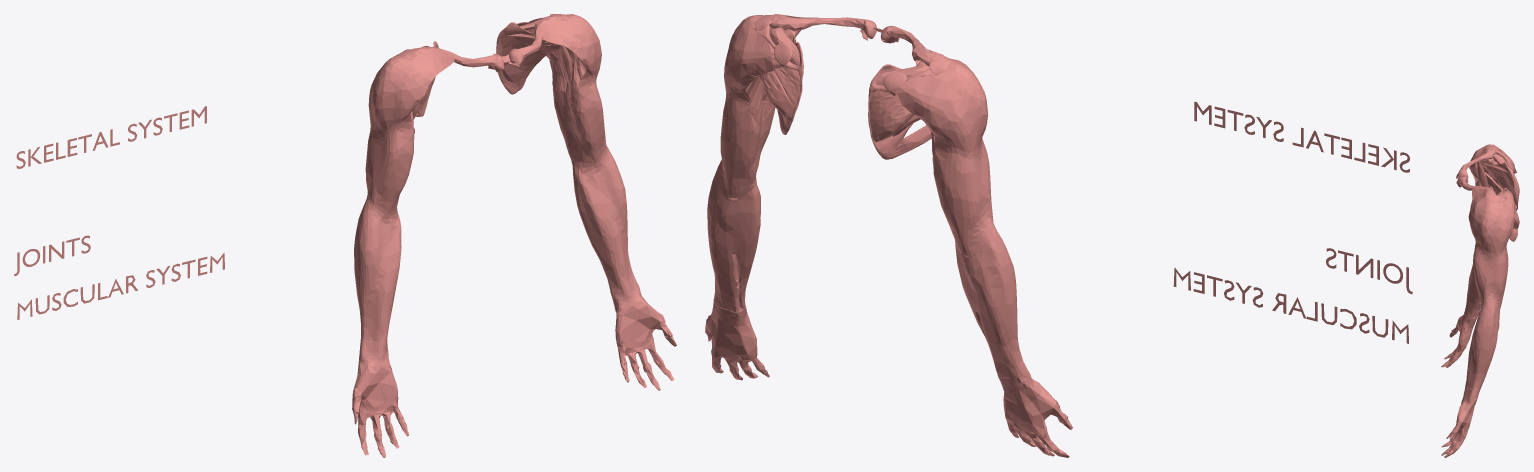
File: upper.glb
The picture shows the model from 3 angles, left to right: view 1: azimuth 30°, elevation 25°; view 2: azimuth 150°, elevation 25°; view 3: azimuth 270°, elevation 25°; orthographic projection. The views are drawn at different scales.
Parts seen in each view (by area): view 1: Antebrachial fascia.r, Antebrachial fascia.l, Deltoid fascia.r, Brachial fascia.l, Brachial fascia.r, Palmar aponeurosis.l, Palmar aponeurosis.r, Deltoid fascia.l, Muscular system.g, Skeletal system.g, Subscapularis muscle.l, Scapula.l; view 2: Antebrachial fascia.r, Antebrachial fascia.l, Deltoid fascia.r, Brachial fascia.r, Brachial fascia.l, Deltoid fascia.l, Dorsal fascia of hand.r, Dorsal fascia of hand.l, Muscular system.g, Skeletal system.g, Infraspinatus muscle.r, Infraspinatus muscle.l (+4 smaller); view 3: Deltoid fascia.l, Antebrachial fascia.l, Brachial fascia.l, Antebrachial fascia.r, Subscapularis muscle.r, Dorsal fascia of hand.l, Palmar aponeurosis.l, Palmar aponeurosis.r, Scapula.r, Clavicle.r, Dorsal fascia of hand.r, Deltoid fascia.r (+7 smaller).
Boxes of the visible parts, x1,y1,x2,y2 form: Antebrachial fascia.r: (354,199,401,352); Antebrachial fascia.l: (571,145,637,295); Deltoid fascia.r: (368,49,454,139); Brachial fascia.l: (552,70,606,163); Brachial fascia.r: (365,114,414,214); Palmar aponeurosis.l: (615,299,676,389); Palmar aponeurosis.r: (353,366,408,455); Deltoid fascia.l: (528,14,601,81); Muscular system.g: (17,252,224,319); Skeletal system.g: (16,106,206,168); Subscapularis muscle.l: (500,33,560,83); Scapula.l: (496,20,547,94); Antebrachial fascia.r: (953,221,1028,378); Antebrachial fascia.l: (707,160,760,312); Deltoid fascia.r: (892,43,988,157); Brachial fascia.r: (930,130,993,241); Brachial fascia.l: (720,84,775,185); Deltoid fascia.l: (724,14,818,93); Dorsal fascia of hand.r: (1003,383,1072,457); Dorsal fascia of hand.l: (705,310,767,380); Muscular system.g: (1173,267,1408,343); Skeletal system.g: (1194,101,1409,172); Infraspinatus muscle.r: (869,90,914,141); Infraspinatus muscle.l: (761,67,800,120); Deltoid fascia.l: (1468,187,1516,258); Antebrachial fascia.l: (1464,299,1501,396); Brachial fascia.l: (1473,239,1508,304); Antebrachial fascia.r: (1464,263,1481,318); Subscapularis muscle.r: (1481,162,1515,203); Dorsal fascia of hand.l: (1443,404,1474,457); Palmar aponeurosis.l: (1442,401,1465,457); Palmar aponeurosis.r: (1441,315,1465,367); Scapula.r: (1480,149,1517,210); Clavicle.r: (1459,148,1495,171); Dorsal fascia of hand.r: (1443,327,1473,367); Deltoid fascia.r: (1469,144,1516,180).
Bounding box in the file's own units: 1.34 × 0.7358 × 0.2142.
